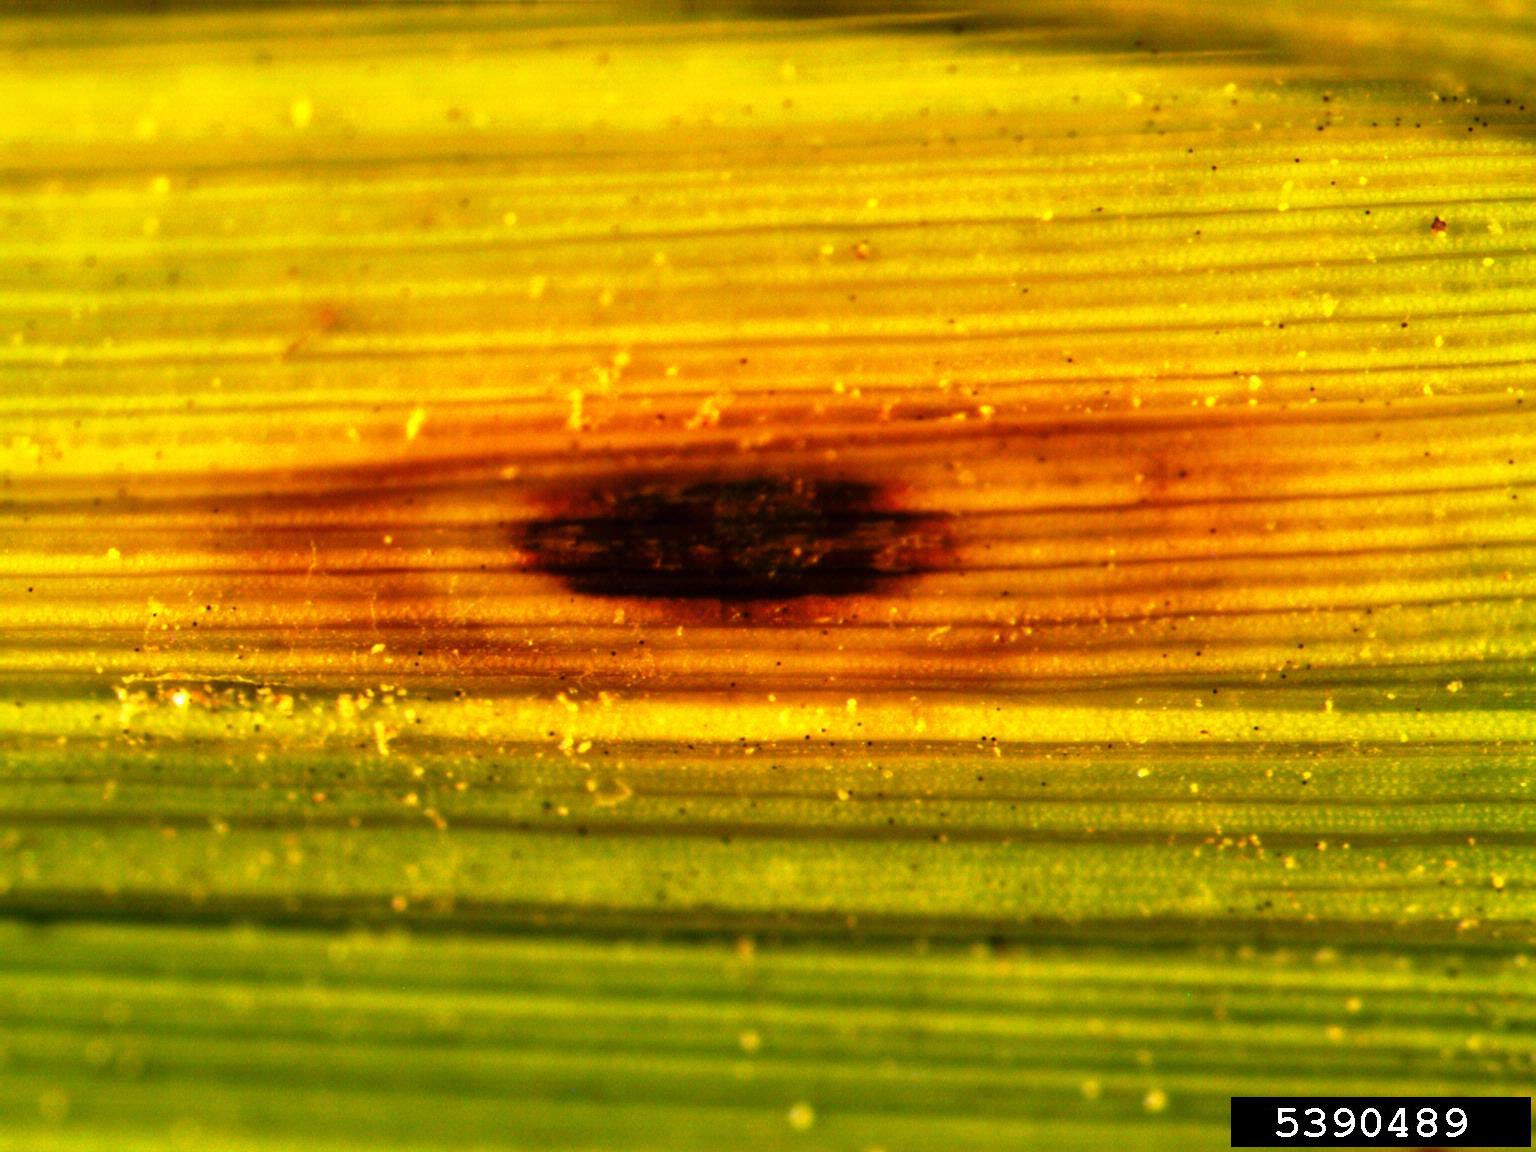Bercak Coklat: (195, 370, 1307, 755)
